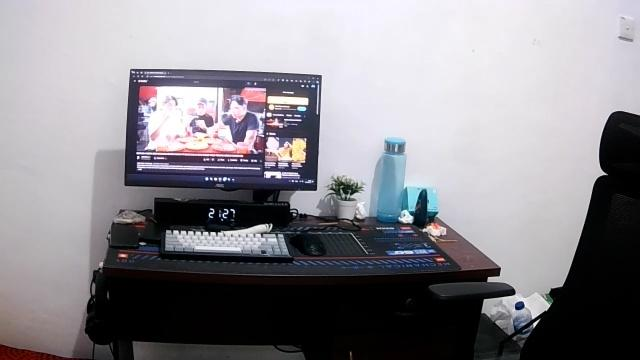AIO PC-Monitor-TV: (122, 67, 321, 191)
Meja: (100, 206, 501, 309)
